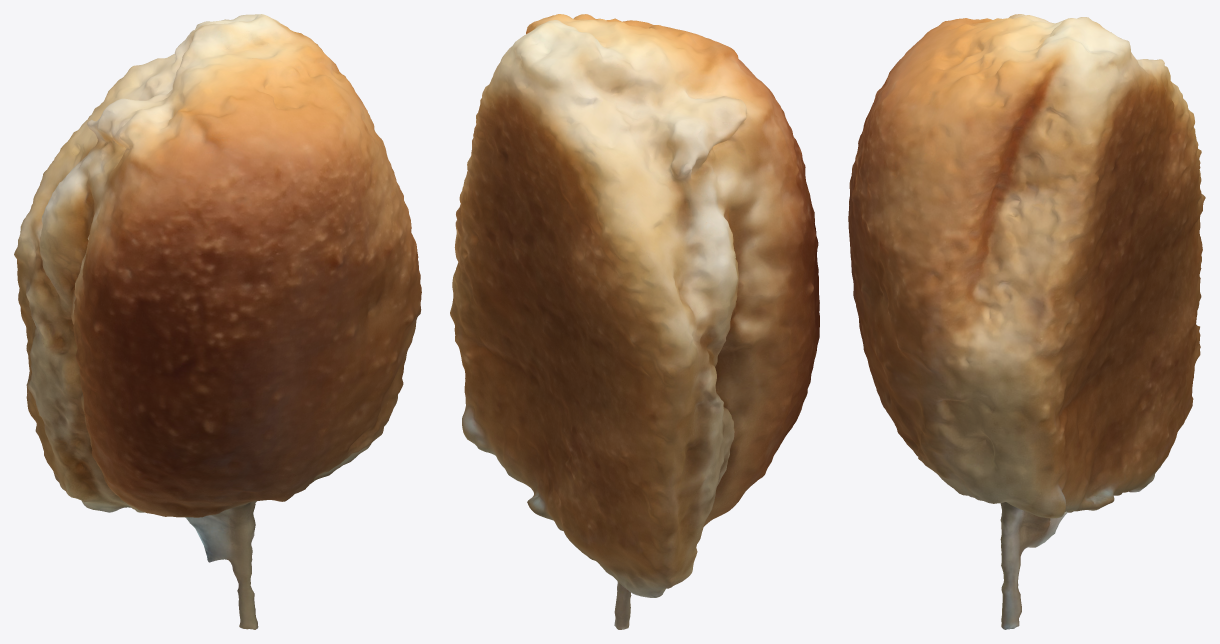
File: pandesal.glb
The picture shows the model from 3 angles, left to right: view 1: azimuth 30°, elevation 25°; view 2: azimuth 150°, elevation 25°; view 3: azimuth 270°, elevation 25°; orthographic projection. The views are drawn at different scales.
Visible parts, largest first — view 1: model; view 2: model; view 3: model.
Boxes of the visible parts, x1=… form: model: x1=14, y1=14, x2=421, y2=629; model: x1=450, y1=14, x2=819, y2=629; model: x1=848, y1=14, x2=1205, y2=629.
Bounding box in the file's own units: 0.0595 × 0.1045 × 0.0555.
Materials: 1 (1 with a texture image).
